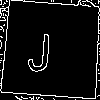J: (26, 24, 54, 73)
